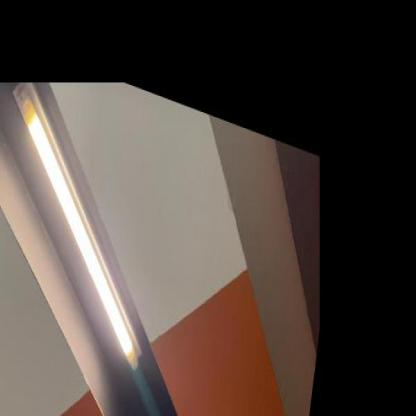light_on: (0, 59, 184, 411)
